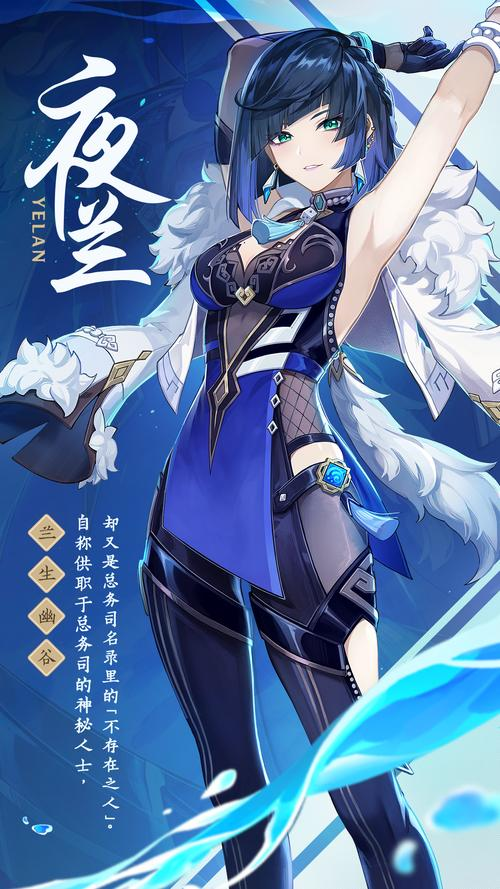夜兰: (141, 2, 500, 889)
